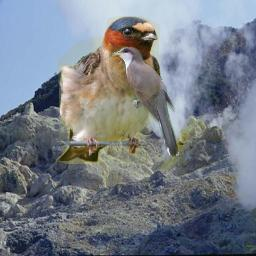Cuckoo: (109, 45, 181, 159)
Swallow: (56, 16, 164, 164)
